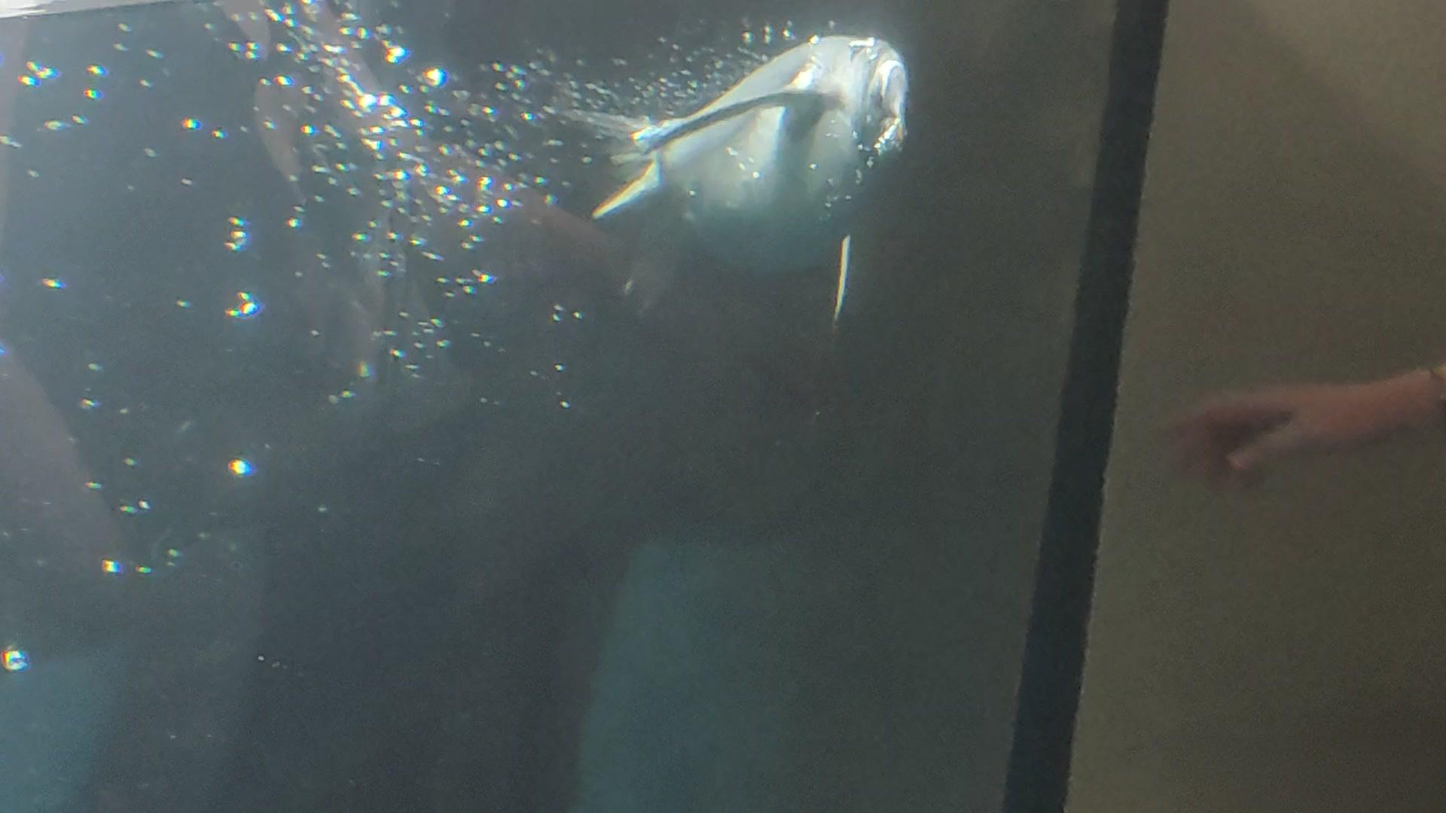apple: (564, 34, 910, 332)
